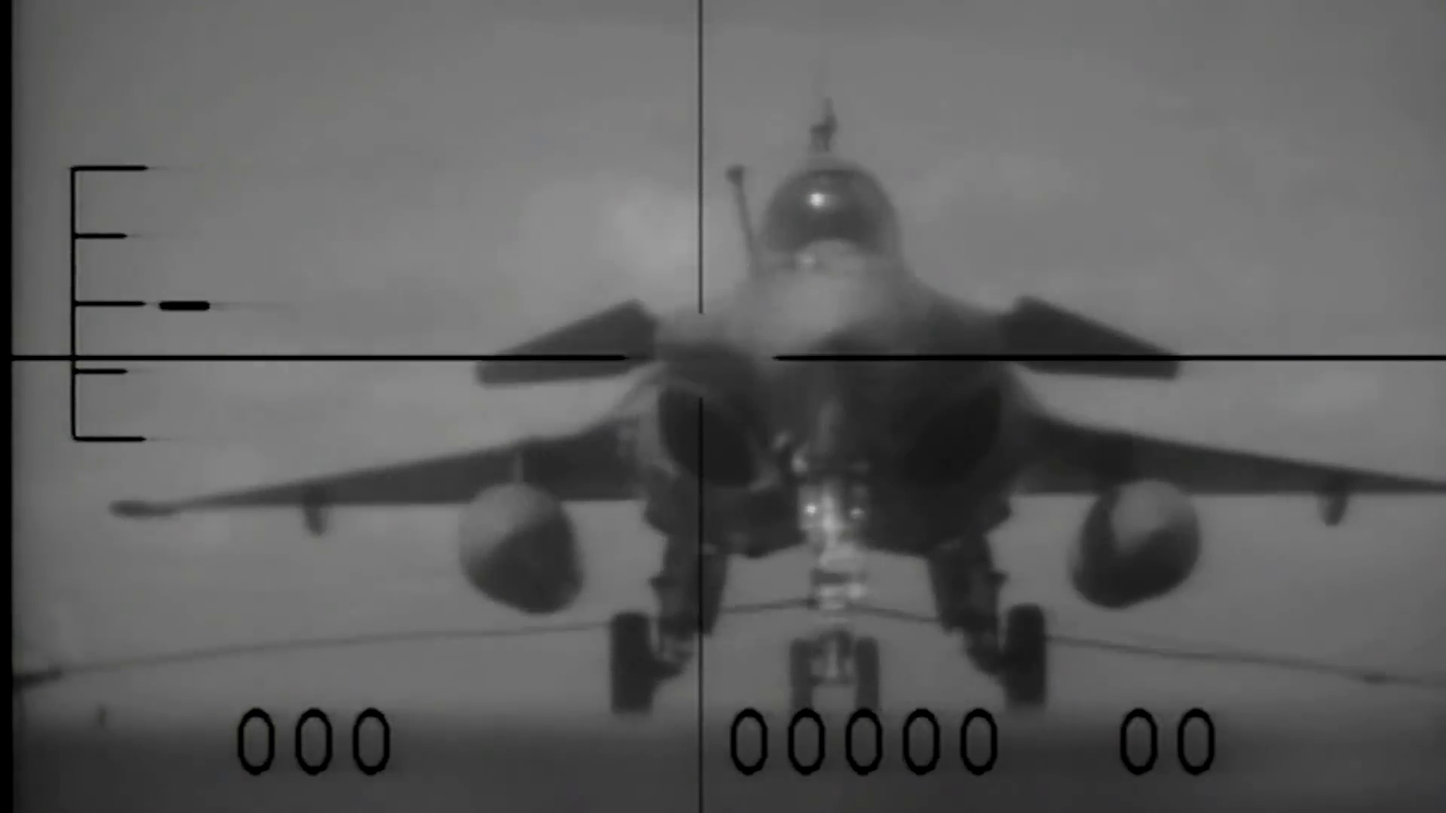Rafale: (110, 98, 1424, 716)
